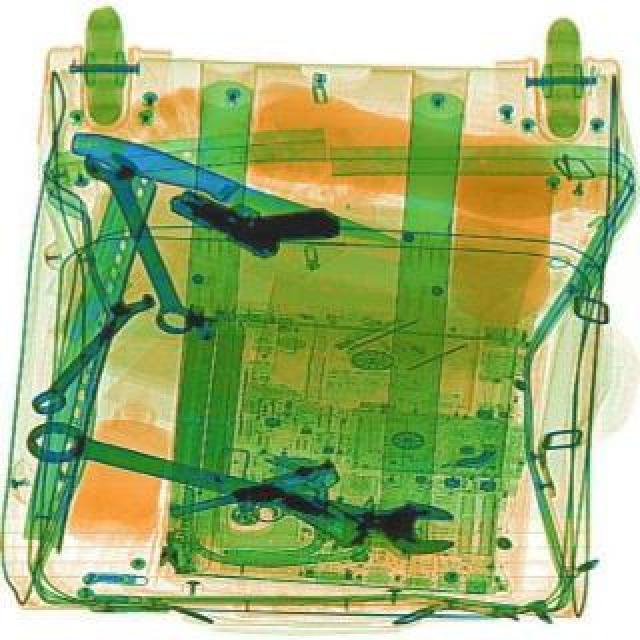gun: (166, 456, 370, 592), (162, 146, 346, 282)
knife: (66, 122, 402, 254)
scissors: (16, 408, 460, 560), (78, 140, 202, 340), (20, 280, 156, 420)
